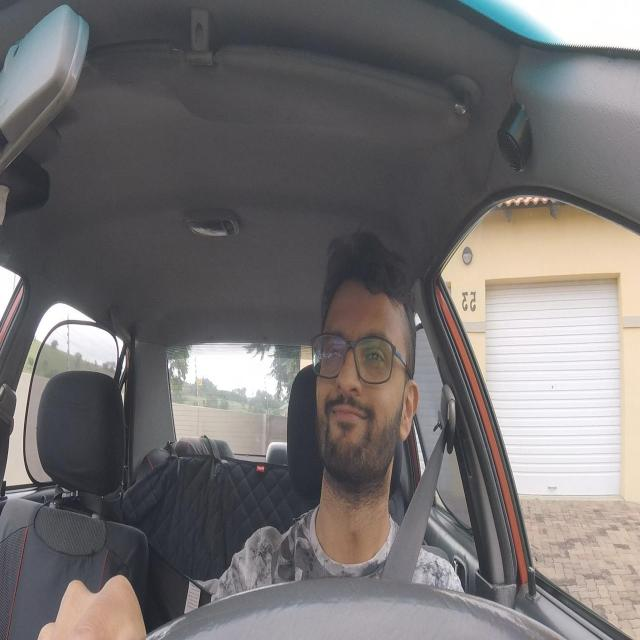open: (356, 328, 395, 381), (318, 324, 350, 376)
